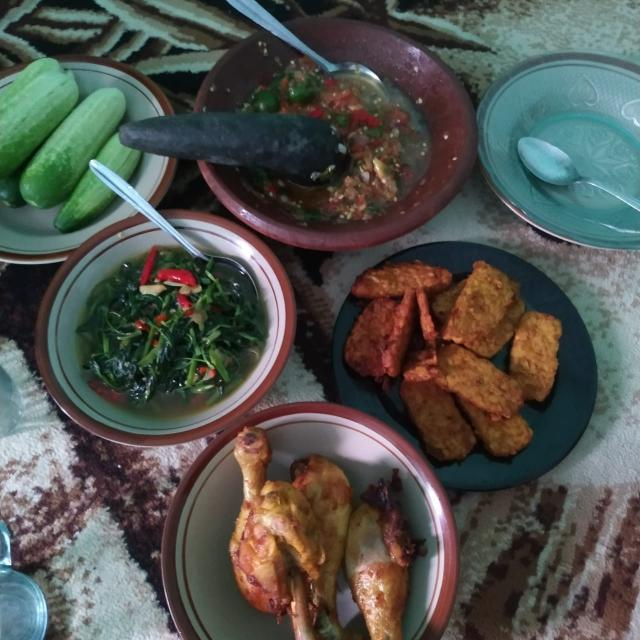ayam_goreng: (210, 417, 289, 602), (342, 466, 429, 631), (259, 440, 343, 609)
